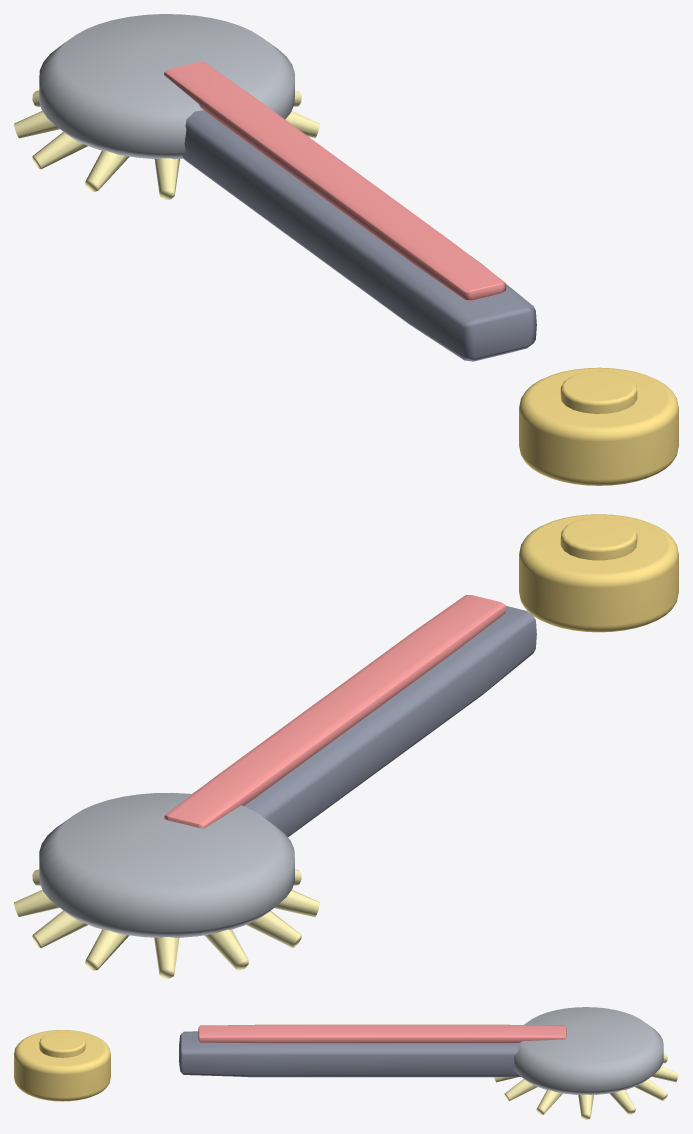
Rendered from BigBadVacuumBrush.glb.
The picture shows the model from 3 angles, top to bottom: view 1: azimuth 30°, elevation 25°; view 2: azimuth 150°, elevation 25°; view 3: azimuth 270°, elevation 25°; orthographic projection. The views are drawn at different scales.
Visible parts, largest first — view 1: Head, Boom, Hub, BoomTop, Bristles; view 2: Head, Boom, Hub, BoomTop, Bristles; view 3: Boom, Head, BoomTop, Hub, Bristles.
Part boxes in pixels (x1=…): Head: x1=39, y1=14, x2=294, y2=159; Boom: x1=182, y1=110, x2=536, y2=361; Hub: x1=519, y1=367, x2=678, y2=485; BoomTop: x1=164, y1=62, x2=506, y2=300; Bristles: x1=14, y1=90, x2=319, y2=199; Head: x1=39, y1=792, x2=294, y2=937; Boom: x1=192, y1=606, x2=536, y2=836; Hub: x1=519, y1=514, x2=678, y2=632; BoomTop: x1=164, y1=595, x2=506, y2=828; Bristles: x1=14, y1=869, x2=319, y2=978; Boom: x1=179, y1=1031, x2=520, y2=1077; Head: x1=514, y1=1007, x2=663, y2=1094; BoomTop: x1=198, y1=1024, x2=566, y2=1043; Hub: x1=14, y1=1030, x2=110, y2=1101; Bristles: x1=494, y1=1053, x2=678, y2=1119.
Size of the model in its own units: 9.57 by 3.05 by 34.29.
